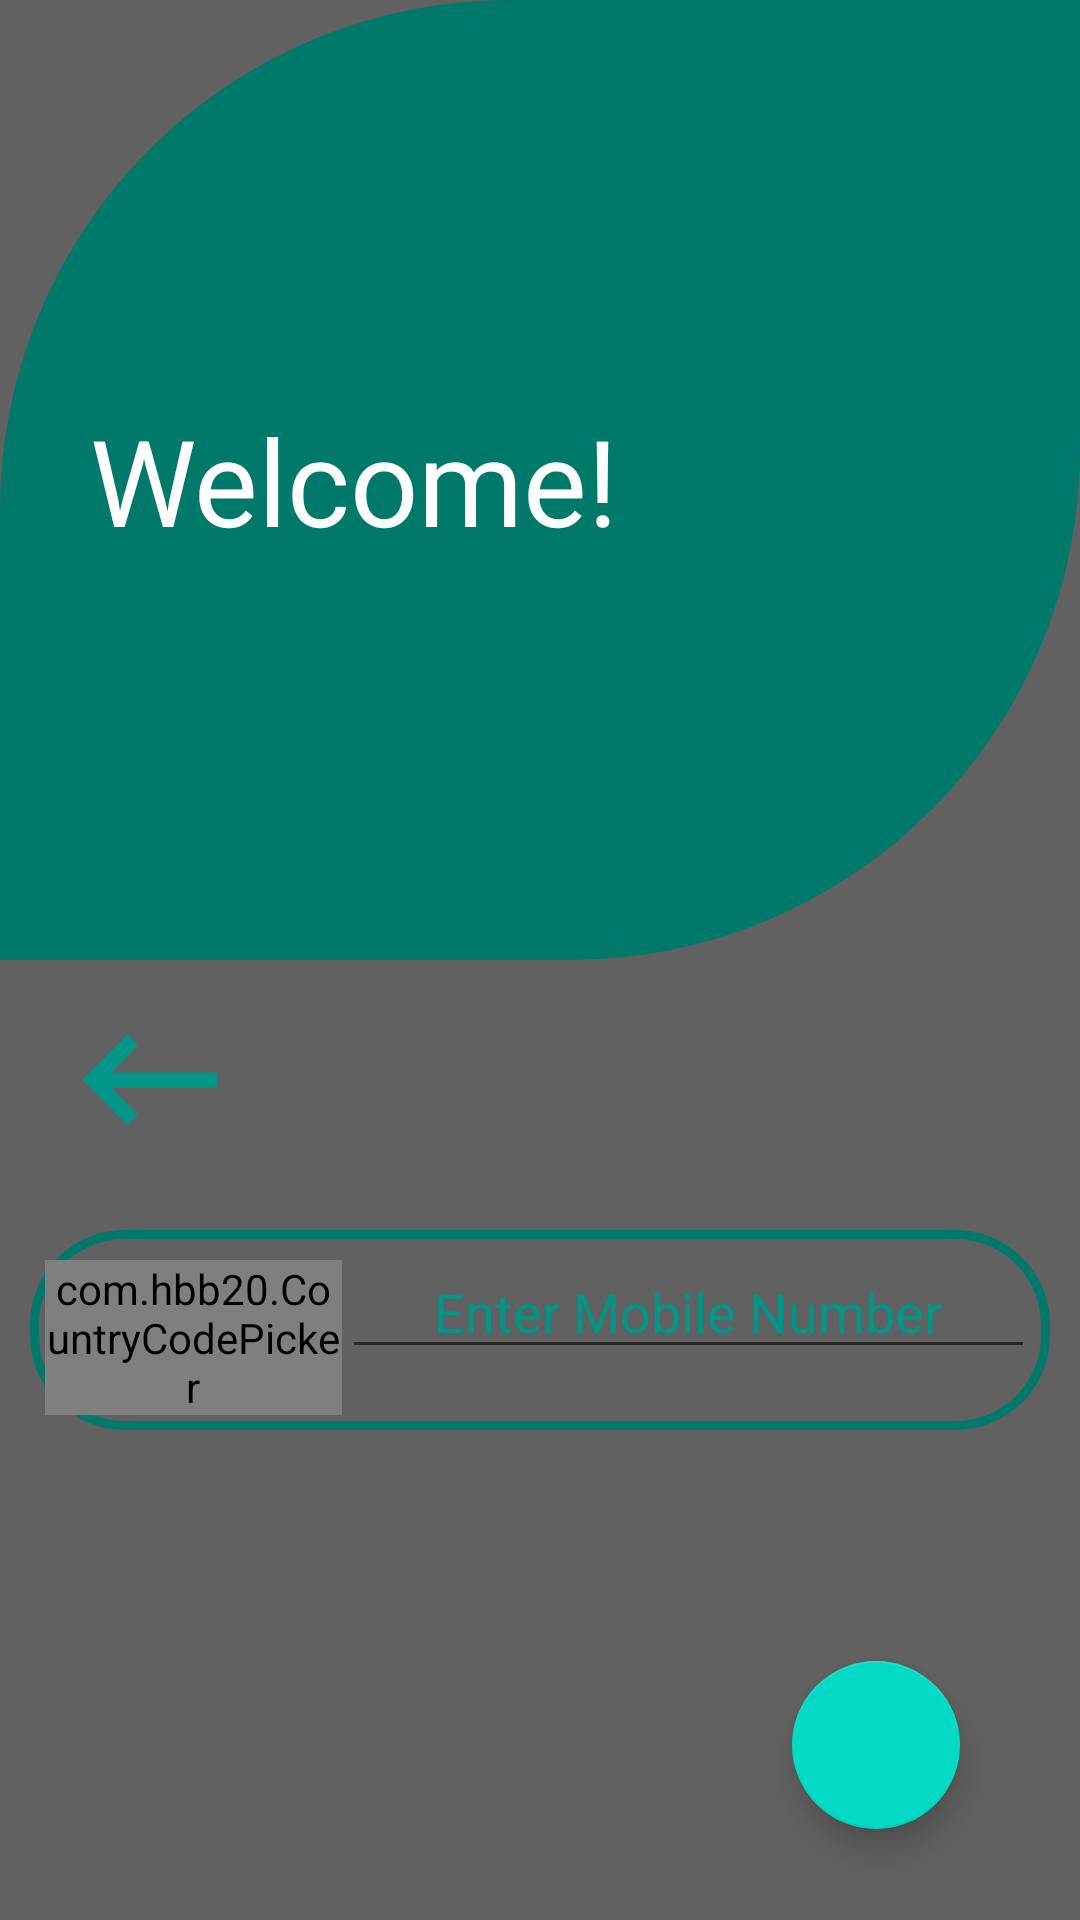

Point at icon controls on the screen. Image size 1080*1920, points as (x=x, y=y).
goback: (x=150, y=1080)
